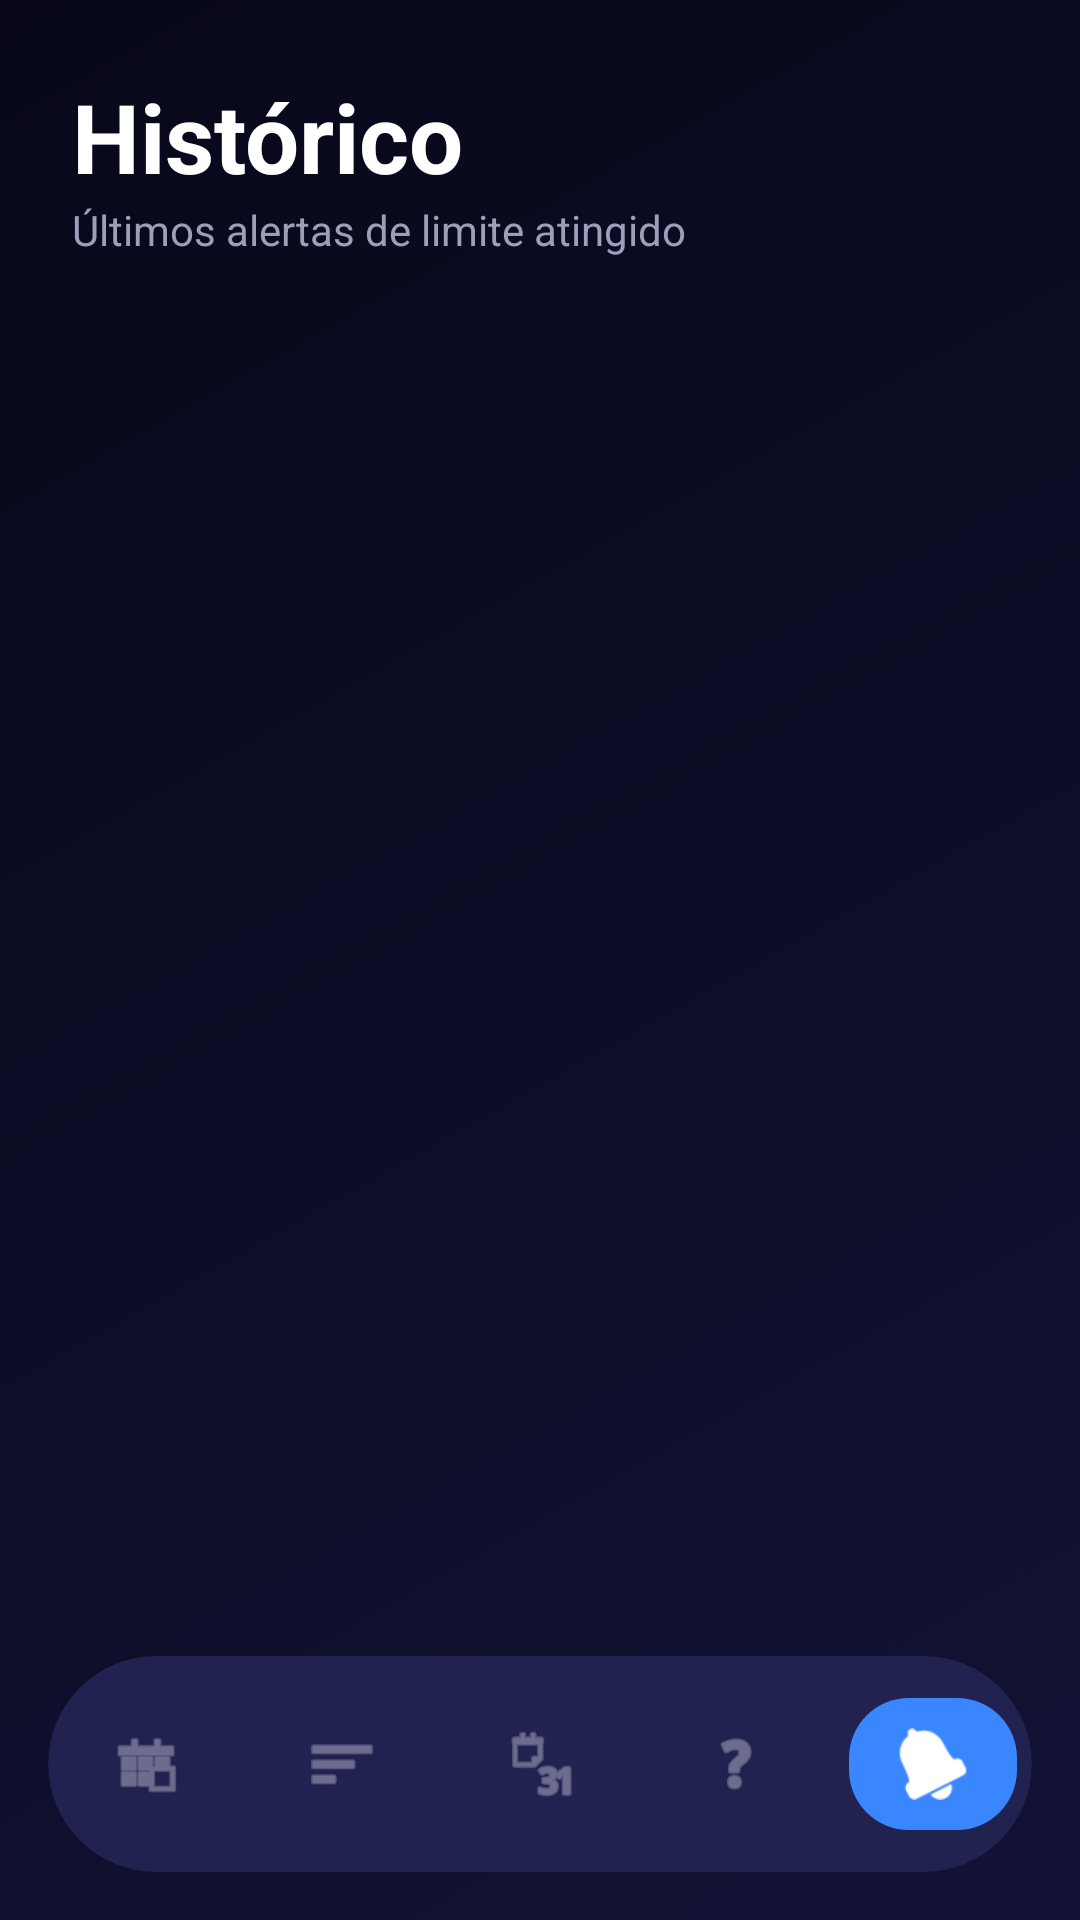

Locate icon controls on the screen. Image size 1080px x 1920px, boxes as (x1, y1, x2, y2).
help: (721, 1738, 752, 1790)
popup reminder: (899, 1728, 967, 1800)
sort by size: (311, 1744, 373, 1784)
